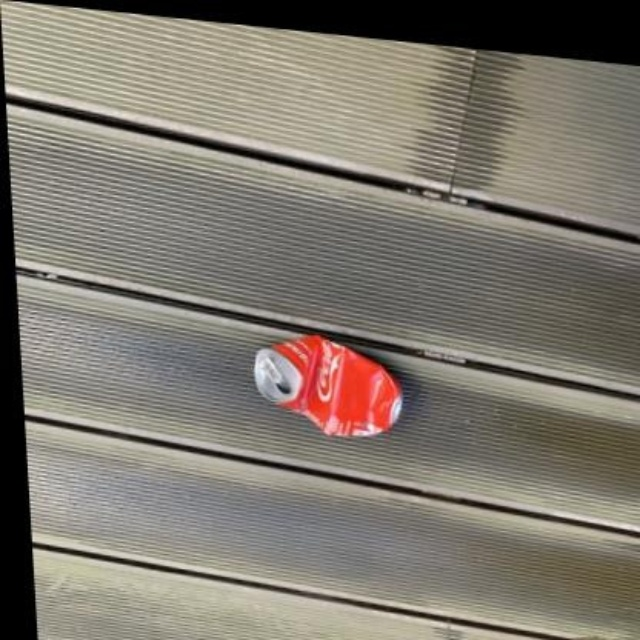trash: (254, 335, 400, 435)
